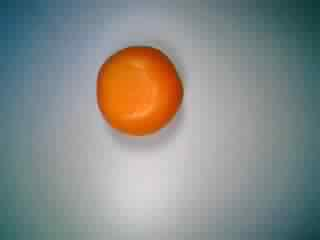orange: (89, 43, 190, 140)
